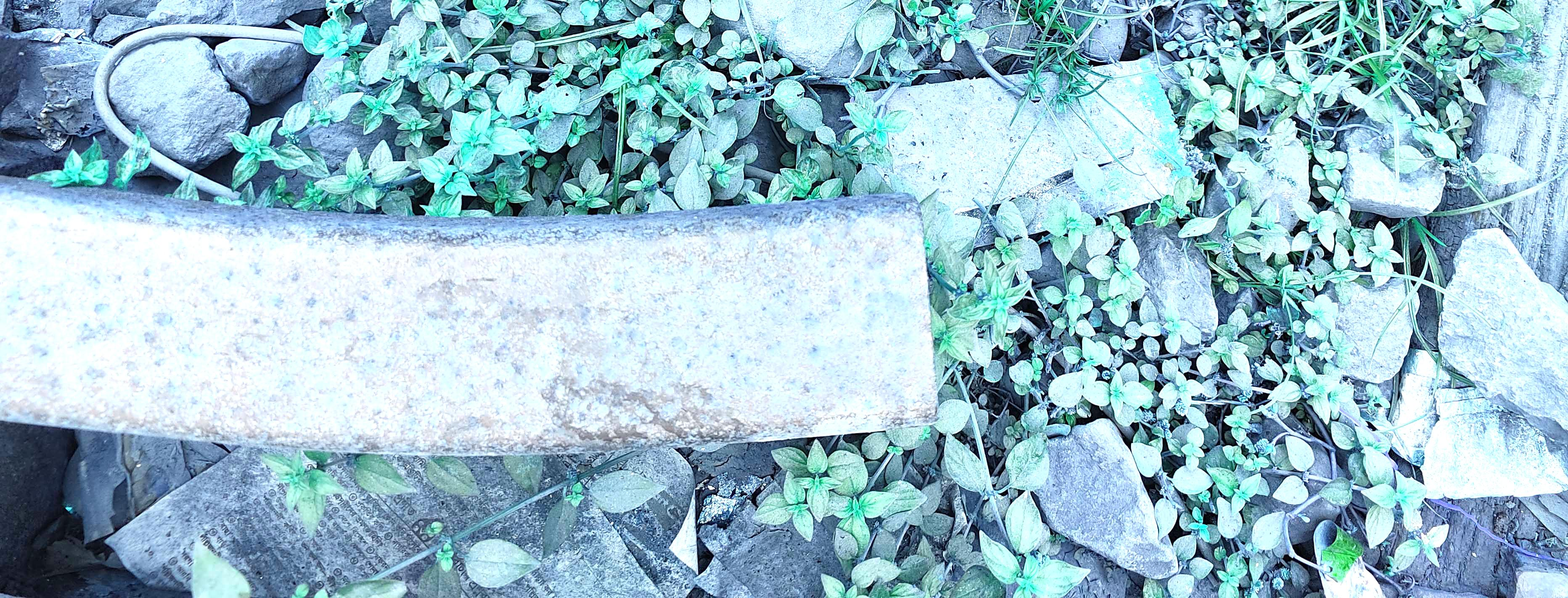duan lie: (896, 155, 1029, 465)
